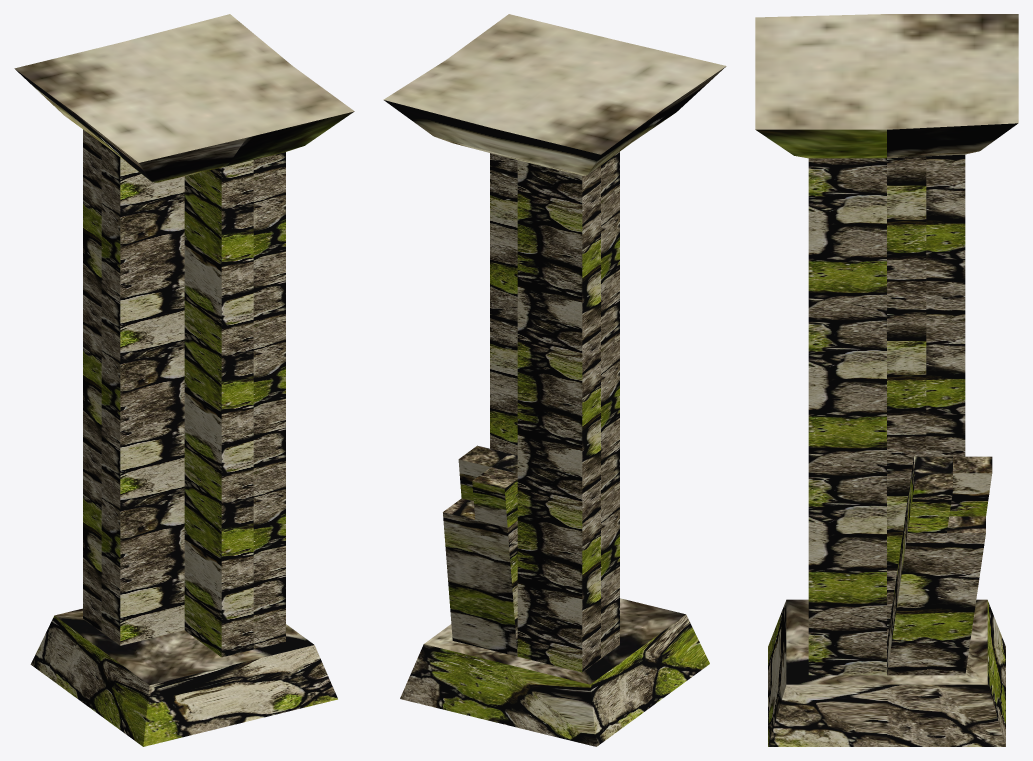
The model's file is sewerColumn.fbx.
3 views of the same model, side by side, from view 1: azimuth 30°, elevation 25°; view 2: azimuth 150°, elevation 25°; view 3: azimuth 270°, elevation 25° (orthographic). The views are drawn at different scales.
Parts seen in each view (by area): view 1: Cube.011; view 2: Cube.011; view 3: Cube.011.
Boxes of the visible parts, x1,y1,x2,y2 form: Cube.011: [14, 14, 354, 746]; Cube.011: [383, 14, 726, 746]; Cube.011: [755, 14, 1018, 746].
Size of the model in its own units: 129 by 341 by 129.
